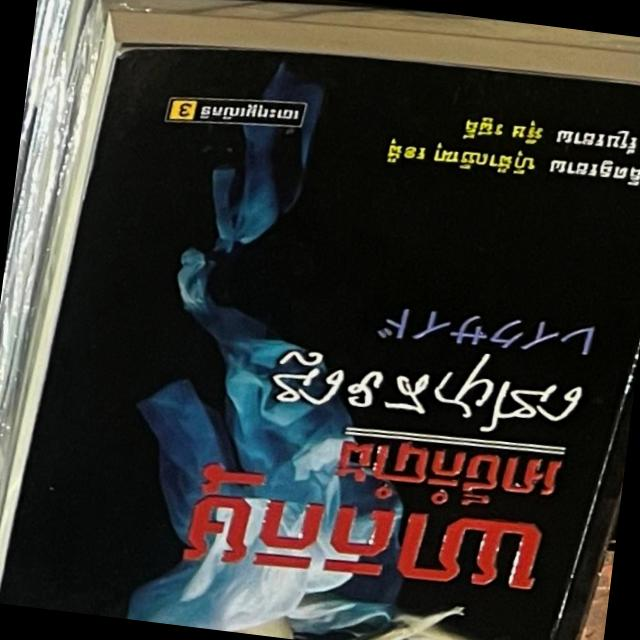2: (380, 133, 640, 199), (443, 110, 640, 167)
60: (170, 96, 303, 132)
Yolov11_80vkh: (178, 469, 550, 604), (261, 344, 584, 442), (326, 435, 572, 512)
